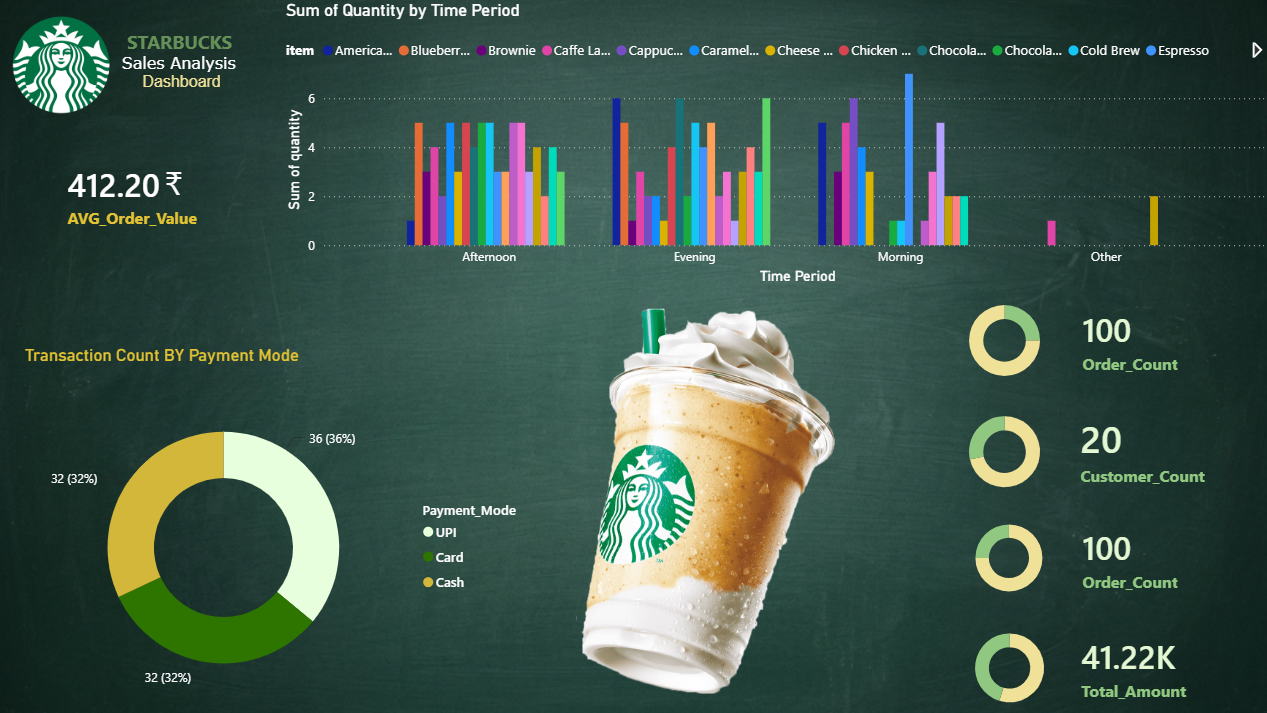

The page's visual inventory and layout, read from the dashboard file:
{"tool":"powerbi","page":{"name":"Sales Overview","canvas":[1280,720],"ordinal":1},"visuals":[{"type":"image","box":[10,11.2,110,107.5],"z":0},{"type":"textbox","box":[77.5,23.8,216.2,83.8],"z":1000},{"type":"donutChart","title":"Transaction Count BY Payment Mode","fields":{"Category":["starbucks sales.payment_mode"],"Y":["CountNonNull(starbucks sales.transaction_id)"]},"box":[23.8,345,523.8,375],"z":2000},{"type":"image","box":[533.8,318.8,358.8,385],"z":3000},{"type":"clusteredColumnChart","title":"Sum of Quantity by Time Period","fields":{"Category":["starbucks sales.Time Period"],"Series":["starbucks items.item"],"Y":["Sum(starbucks sales.quantity)"]},"box":[285,11.2,995,288.8],"z":4000},{"type":"cardVisual","fields":{"Data":["_Measure.Customer_Count"]},"box":[1067.5,393.8,196.2,111.2],"z":5000},{"type":"cardVisual","fields":{"Data":["_Measure.Order_Count"]},"box":[1057.5,506.2,196.2,105],"z":6000},{"type":"cardVisual","fields":{"Data":["_Measure.Total_Amount"]},"box":[1056.2,615,196.2,105],"z":6001},{"type":"cardVisual","fields":{"Data":["_Measure.Order_Count"]},"box":[1057.5,288.8,196.2,105],"z":6002},{"type":"donutChart","fields":{"Y":["_Measure.Order_Count","_Measure.Total_Order_target"]},"box":[937.5,291.2,142.5,98.8],"z":6003},{"type":"donutChart","fields":{"Y":["_Measure.Total_Cust_Target","_Measure.Customer_Count"]},"box":[932.5,402.5,152.5,98.8],"z":6004},{"type":"donutChart","fields":{"Y":["_Measure.Total_Order_target","_Measure.Order_Count"]},"box":[941.2,511.2,143.8,93.8],"z":6005},{"type":"donutChart","fields":{"Y":["_Measure.Daily_Sale","_Measure.Total_Amount"]},"box":[935,620,157.5,96.2],"z":6006},{"type":"cardVisual","fields":{"Data":["_Measure.AVG_Order_Value"]},"box":[42.5,136.2,207.5,118.8],"z":6007},{"type":"textbox","box":[163.3,156,62.5,53.8],"z":6008}]}

Visuals, with their boxes in screenshot pixels (x1, y1, x2, y2), scaled from the page's 1280x720 canvas onto the 1267x713 screenshot:
image: rect(10, 11, 119, 118)
textbox: rect(77, 24, 291, 107)
"Transaction Count BY Payment Mode" donutChart: rect(24, 342, 542, 712)
image: rect(528, 316, 884, 697)
"Sum of Quantity by Time Period" clusteredColumnChart: rect(282, 11, 1266, 297)
cardVisual - _Measure.Customer_Count: rect(1057, 390, 1251, 500)
cardVisual - _Measure.Order_Count: rect(1047, 501, 1241, 605)
cardVisual - _Measure.Total_Amount: rect(1045, 609, 1240, 712)
cardVisual - _Measure.Order_Count: rect(1047, 286, 1241, 390)
donutChart - _Measure.Order_Count x _Measure.Total_Order_target: rect(928, 288, 1069, 386)
donutChart - _Measure.Total_Cust_Target x _Measure.Customer_Count: rect(923, 399, 1074, 496)
donutChart - _Measure.Total_Order_target x _Measure.Order_Count: rect(932, 506, 1074, 599)
donutChart - _Measure.Daily_Sale x _Measure.Total_Amount: rect(926, 614, 1081, 709)
cardVisual - _Measure.AVG_Order_Value: rect(42, 135, 247, 253)
textbox: rect(162, 154, 224, 208)
